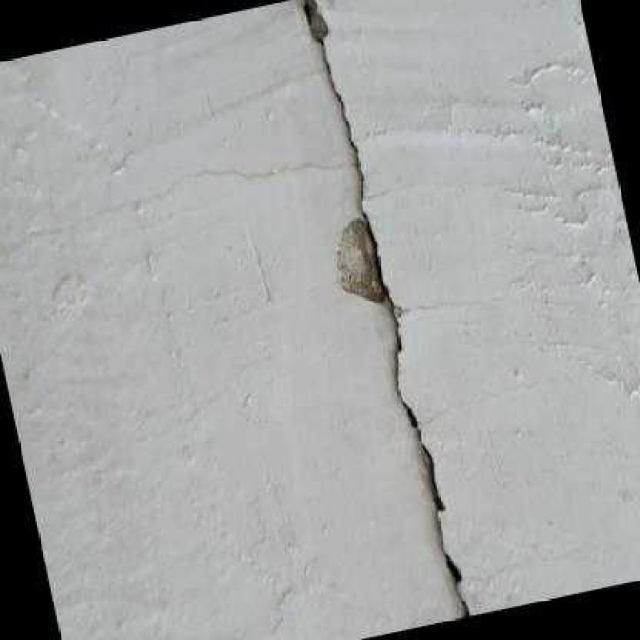D00: (302, 0, 470, 617)
